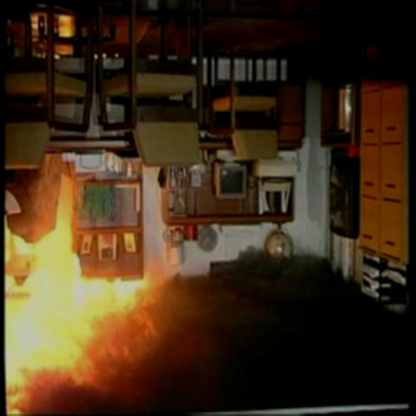fire: (0, 209, 175, 412)
